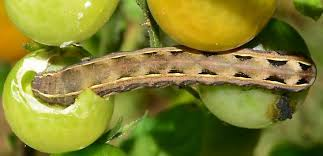Armyworm: (38, 52, 319, 114)
